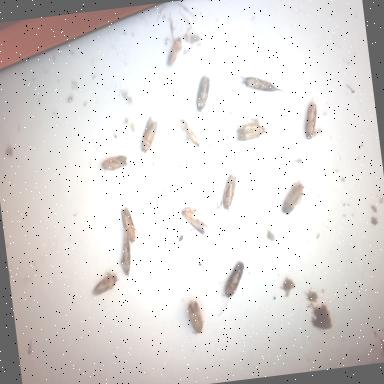pbw: (276, 180, 314, 223), (219, 256, 255, 300), (134, 116, 161, 159), (231, 118, 267, 146), (298, 104, 324, 140), (242, 74, 282, 96), (188, 78, 214, 110), (218, 176, 242, 208), (118, 206, 136, 248), (165, 35, 183, 73), (185, 300, 205, 334), (116, 240, 136, 271), (93, 274, 116, 300), (103, 151, 128, 174)
